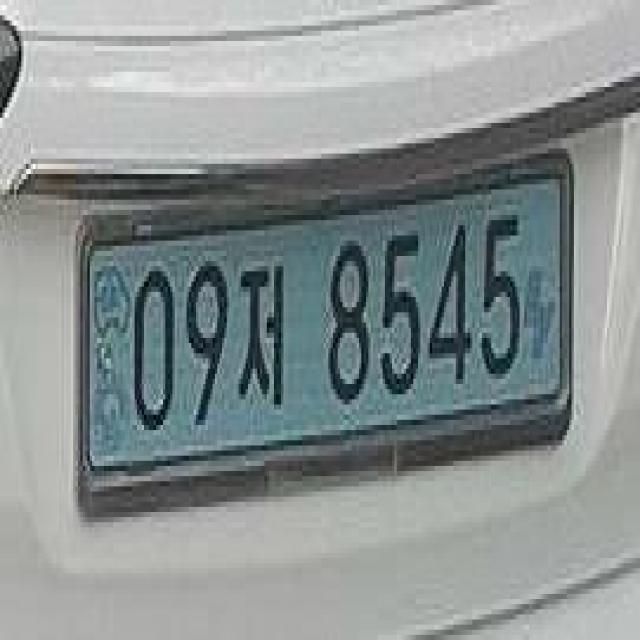EV_plate: (68, 145, 584, 526)
